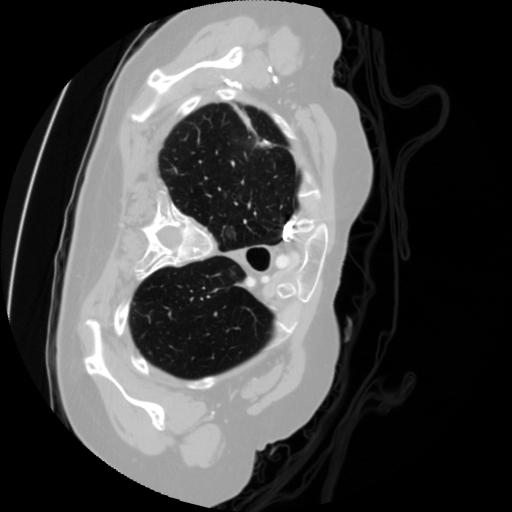nodule: (223, 223, 242, 242)
